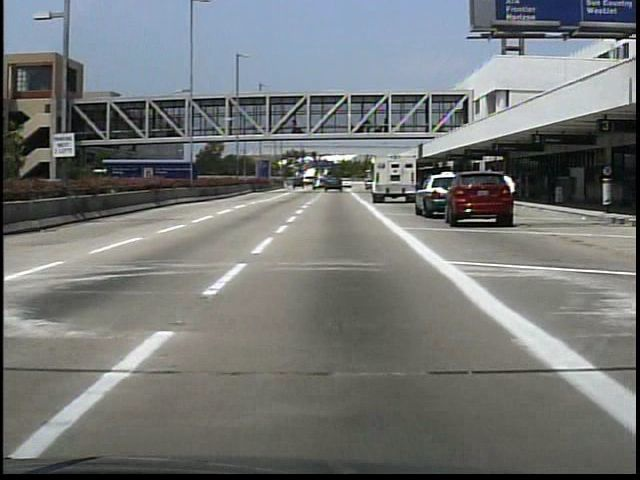person: (498, 172, 518, 228)
